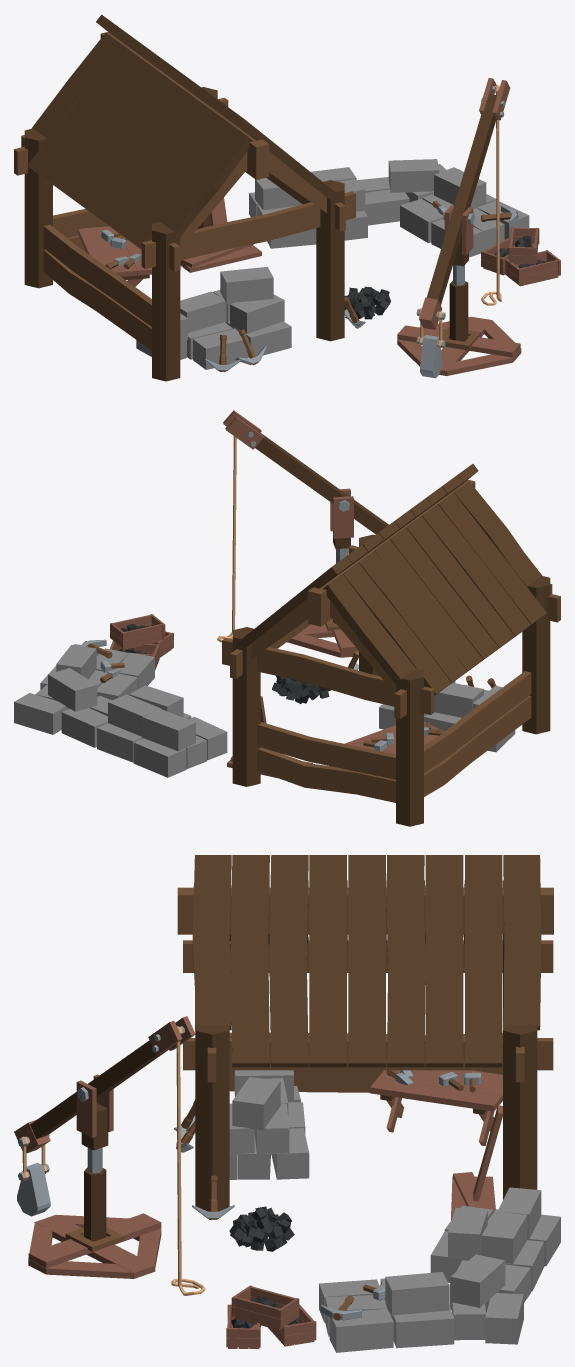
Rendered from ExplodedMasonShop.fbx.
3 renders of one model, top to bottom at view 1: azimuth 30°, elevation 25°; view 2: azimuth 150°, elevation 25°; view 3: azimuth 270°, elevation 25°, orthographic. The views are drawn at different scales.
Visible parts, largest first — view 1: Masonary.225, Masonary.028, Masonary.029, Masonary.009, Masonary.031, Masonary.035, Masonary.038, Masonary.036, Masonary.039, Masonary.042, Masonary.037, Masonary.228 (+39 smaller); view 2: Masonary.226, Masonary.031, Masonary.030, Masonary.227, Masonary.222, Masonary.028, Masonary.043, Masonary.037, Masonary.042, Masonary.038, Masonary.041, Masonary.039 (+28 smaller); view 3: Masonary.004, Masonary.046, Masonary.049, Masonary.050, Masonary.047, Masonary.048, Masonary.045, Masonary.044, Masonary.051, Masonary.029, Masonary.030, Masonary.223 (+40 smaller).
Part boxes in pixels (<box>): Masonary.225: <box>141,191,355,268</box>; Masonary.028: <box>152,221,180,381</box>; Masonary.029: <box>316,180,344,341</box>; Masonary.009: <box>426,94,497,305</box>; Masonary.031: <box>24,128,52,288</box>; Masonary.035: <box>159,126,253,236</box>; Masonary.038: <box>91,91,200,226</box>; Masonary.036: <box>123,114,232,249</box>; Masonary.039: <box>75,79,184,215</box>; Masonary.042: <box>27,44,136,179</box>; Masonary.037: <box>107,102,217,237</box>; Masonary.228: <box>43,224,151,326</box>; Masonary.226: <box>222,638,434,714</box>; Masonary.031: <box>396,668,423,826</box>; Masonary.030: <box>232,627,260,786</box>; Masonary.227: <box>257,722,395,779</box>; Masonary.222: <box>257,747,395,802</box>; Masonary.028: <box>522,576,550,734</box>; Masonary.043: <box>323,574,415,683</box>; Masonary.037: <box>422,504,530,639</box>; Masonary.042: <box>343,562,451,695</box>; Masonary.038: <box>406,516,514,650</box>; Masonary.041: <box>358,551,467,684</box>; Masonary.039: <box>390,527,498,662</box>; Masonary.004: <box>425,855,463,1067</box>; Masonary.046: <box>386,855,425,1067</box>; Masonary.049: <box>269,855,308,1067</box>; Masonary.050: <box>230,855,269,1067</box>; Masonary.047: <box>348,855,385,1067</box>; Masonary.048: <box>309,855,346,1067</box>; Masonary.045: <box>465,855,502,1067</box>; Masonary.044: <box>503,855,541,1030</box>; Masonary.051: <box>192,855,231,1030</box>; Masonary.029: <box>195,1025,229,1211</box>; Masonary.030: <box>503,1022,537,1199</box>; Masonary.223: <box>183,1038,553,1070</box>.
Bounding box in the file's own units: 1567 × 863 × 1404.
